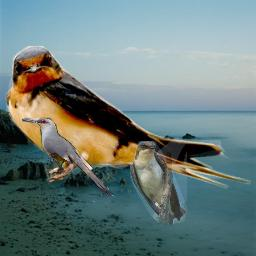Cuckoo: (22, 117, 114, 199)
Swallow: (3, 45, 251, 197), (130, 141, 187, 226)
